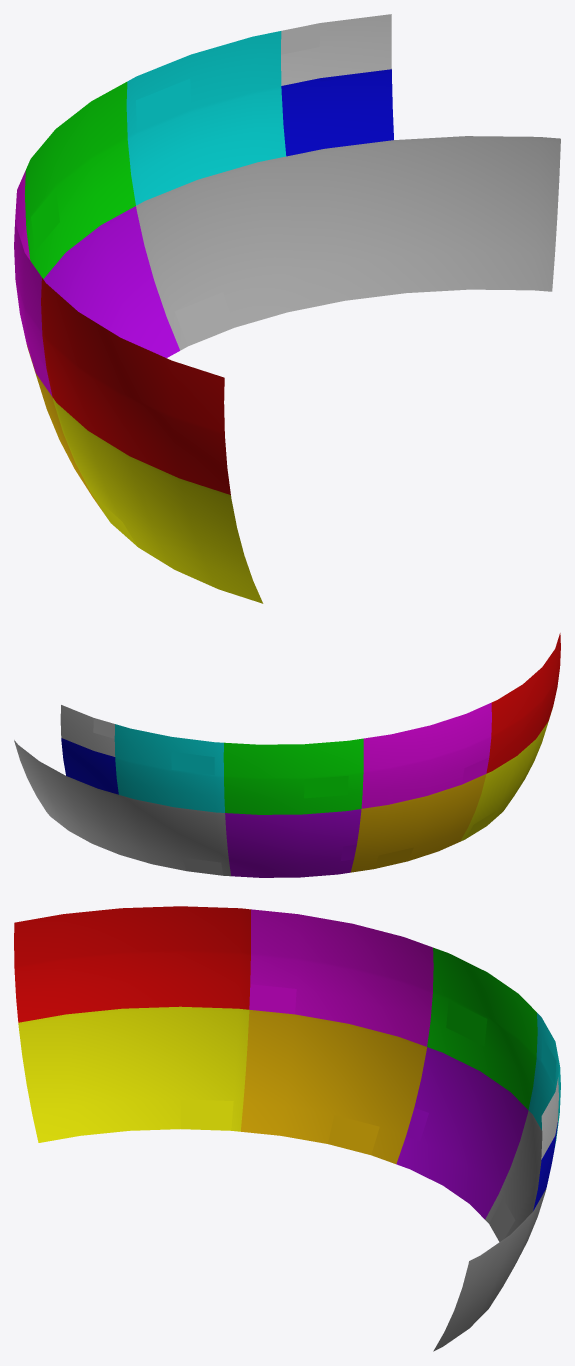
The model's file is Tower_1 (MissingTextureFix).fbx.
3 renders of one model, top to bottom at view 1: azimuth 30°, elevation 25°; view 2: azimuth 150°, elevation 25°; view 3: azimuth 270°, elevation 25°, orthographic. The views are drawn at different scales.
Visible parts, largest first — view 1: tower_1_botto_08; view 2: tower_1_botto_08; view 3: tower_1_botto_08.
Part boxes in pixels (x1,y1,x2,y2): tower_1_botto_08: [14, 14, 560, 603]; tower_1_botto_08: [14, 633, 560, 877]; tower_1_botto_08: [14, 906, 560, 1351].
Bounding box in the file's own units: 13.66 × 4.92 × 12.22.
